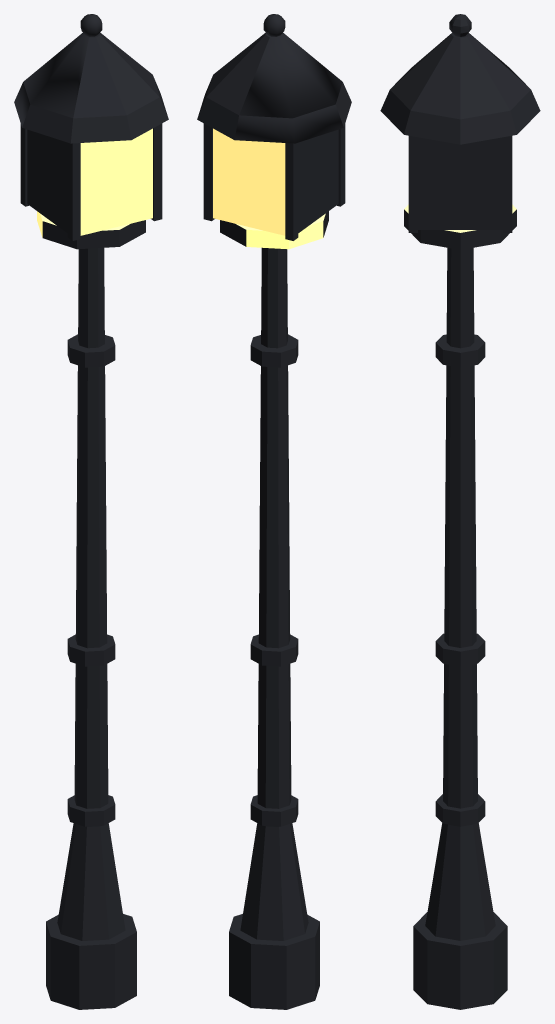
Rendered from props.glb.
3 renders of one model, left to right at view 1: azimuth 30°, elevation 25°; view 2: azimuth 150°, elevation 25°; view 3: azimuth 270°, elevation 25°, orthographic.
Parts seen in each view (by area): view 1: prop_streetlight; view 2: prop_streetlight; view 3: prop_streetlight.
Boxes of the visible parts, bbox=[...] form: prop_streetlight: bbox=[14, 14, 168, 1009]; prop_streetlight: bbox=[197, 14, 351, 1009]; prop_streetlight: bbox=[380, 14, 540, 1009].
Size of the model in its own units: 0.68 by 4.57 by 0.68.
